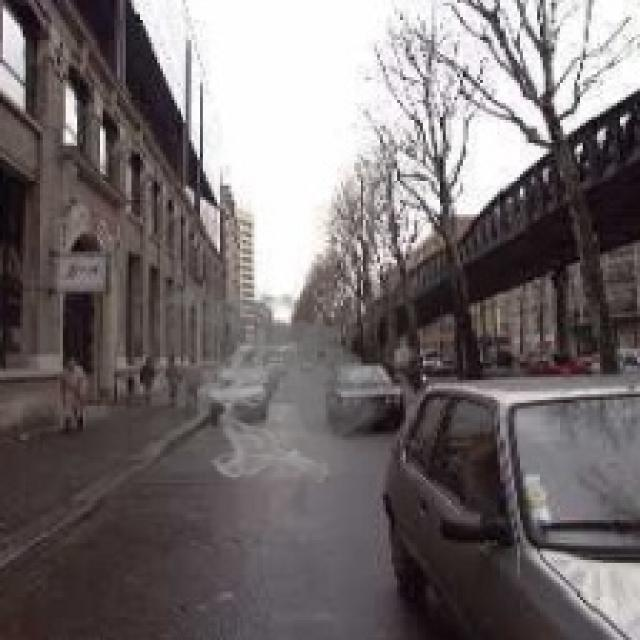Smoke: (131, 280, 400, 486)
